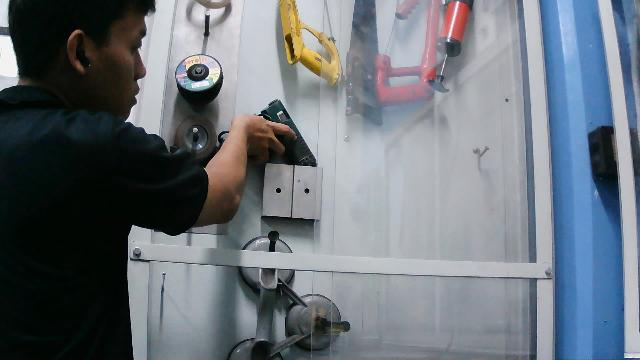gun_lem: (215, 91, 322, 173)
